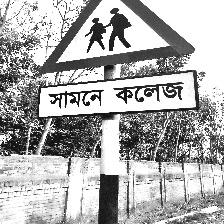College-in-front: (18, 0, 215, 154)
